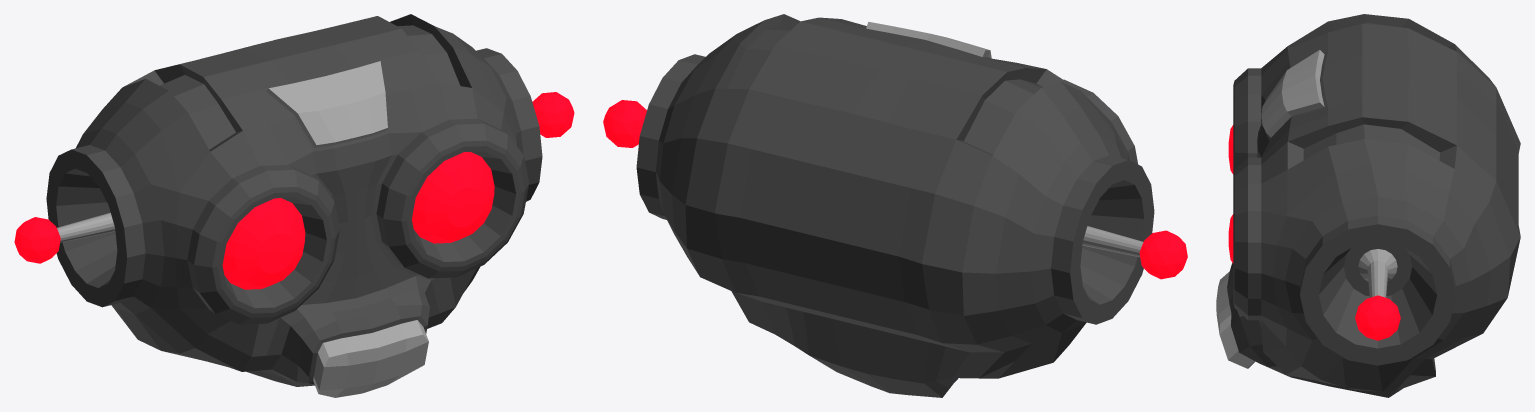
File: minigame.glb
3 views of the same model, side by side, from view 1: azimuth 30°, elevation 25°; view 2: azimuth 150°, elevation 25°; view 3: azimuth 270°, elevation 25° (orthographic). The views are drawn at different scales.
Parts seen in each view (by area): view 1: head; view 2: head; view 3: head.
Boxes of the visible parts, left/top/right/bottom form: head: left=14, top=14, right=574, bottom=397; head: left=603, top=14, right=1187, bottom=397; head: left=1216, top=14, right=1520, bottom=397.
Bounding box in the file's own units: 0.5125 × 0.2852 × 0.2531.
